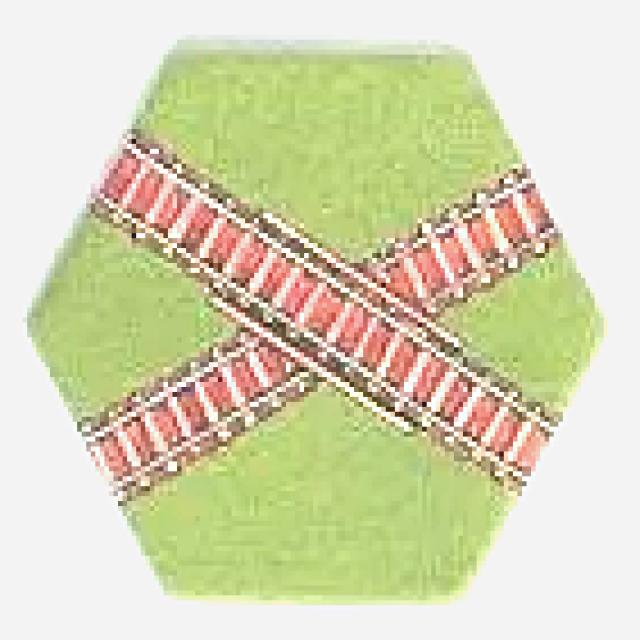9_0: (26, 47, 603, 603)
